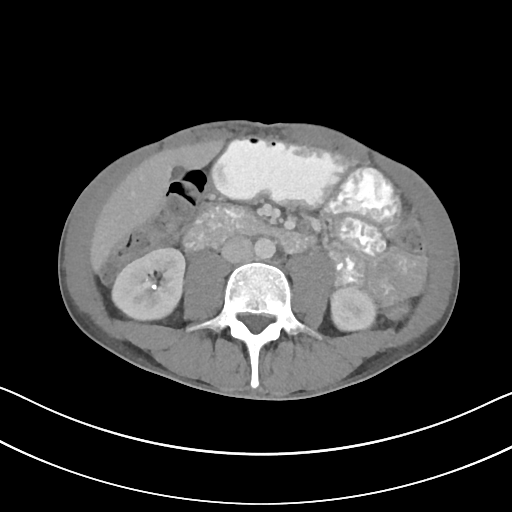Lesion: (148, 278, 159, 294)
